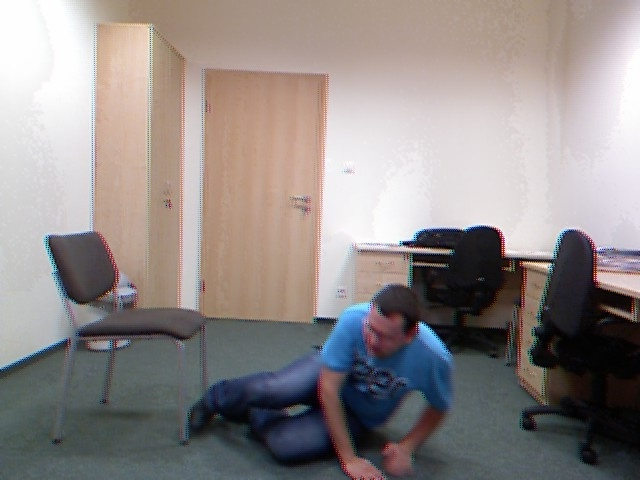fall: (171, 273, 465, 480)
